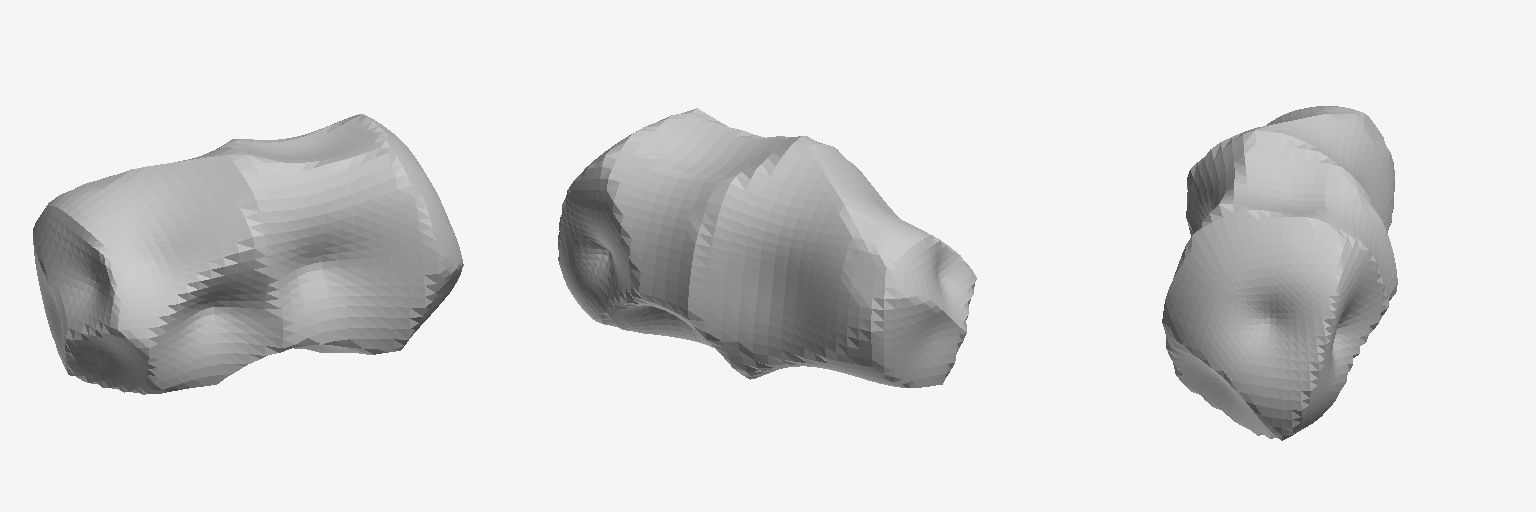
The model's file is scoglio-7.obj.
3 views of the same model, side by side, from view 1: azimuth 30°, elevation 25°; view 2: azimuth 150°, elevation 25°; view 3: azimuth 270°, elevation 25° (orthographic).
Visible parts, largest first — view 1: Cube; view 2: Cube; view 3: Cube.
Part boxes in pixels (bbox=[...]): Cube: bbox=[33, 114, 463, 394]; Cube: bbox=[558, 108, 976, 387]; Cube: bbox=[1162, 106, 1397, 440].
Bounding box in the file's own units: 3.63 × 2.06 × 1.9.